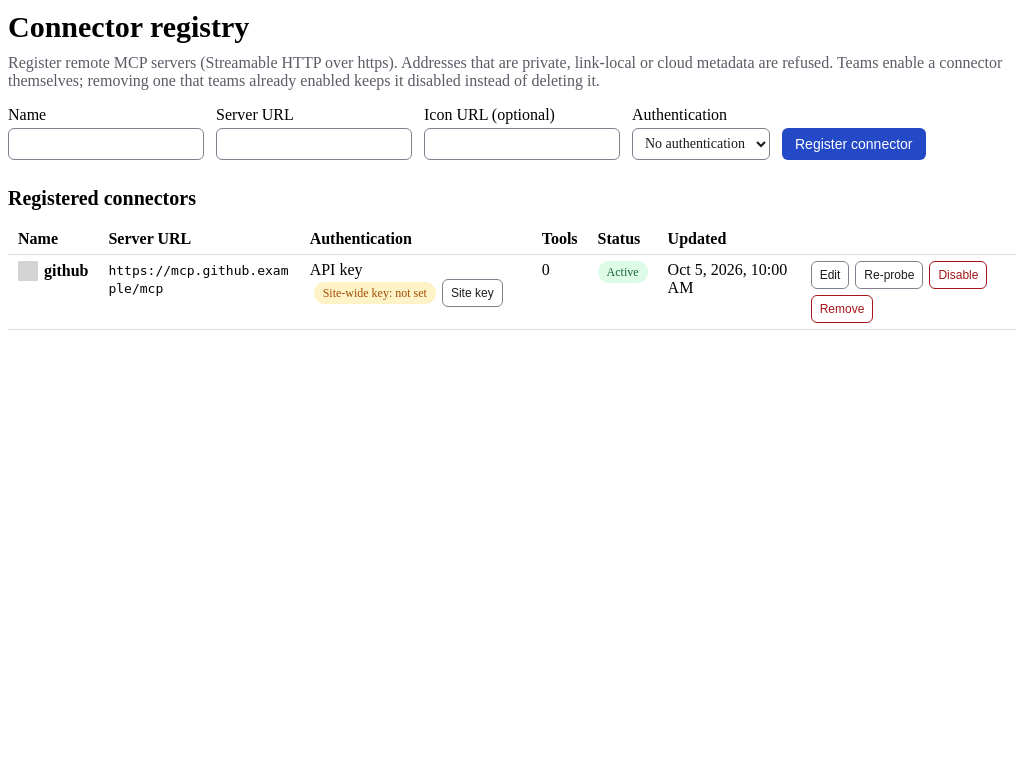
site-wide key (KOBE-303) › sets the key once, shows only its hint and warns about shared attribution
Expected: the text "Site-wide key: not set" is shown, [314,282,436,304]
Click the button "Site key" at (472, 292), box [442,278,503,306]
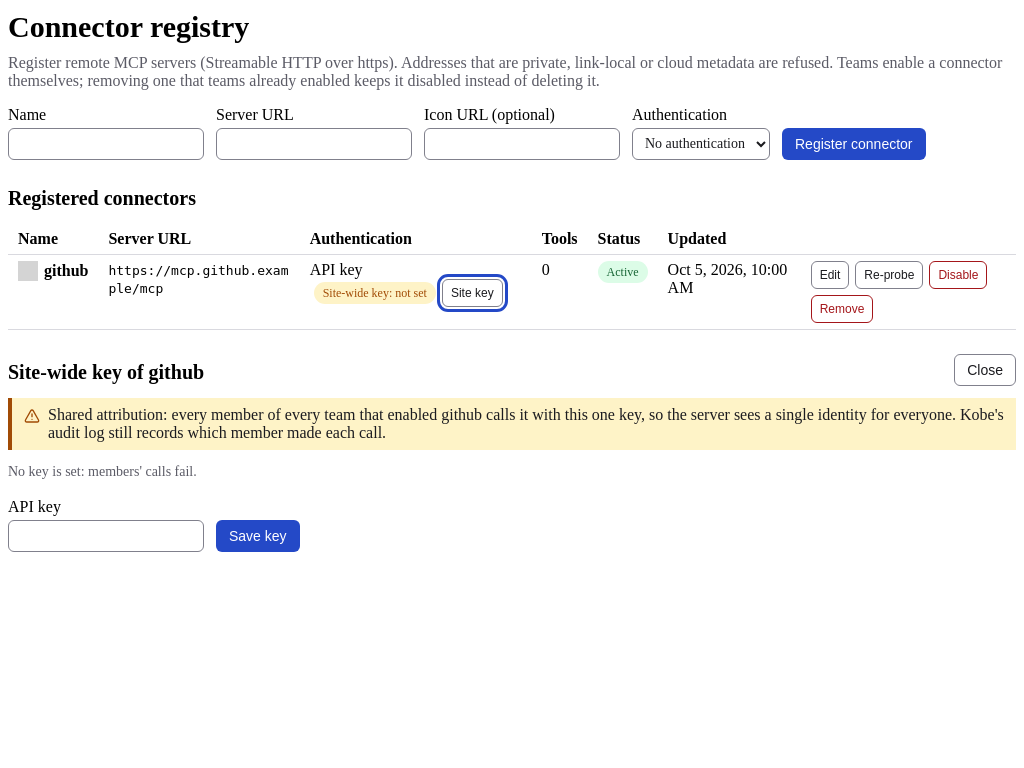
Expected: the text "Shared attribution" is shown, [48,406,441,422]
Type "secret-key-0123456789wxyz" into the password field labelled "API key" at (106, 536), box [8,520,204,552]
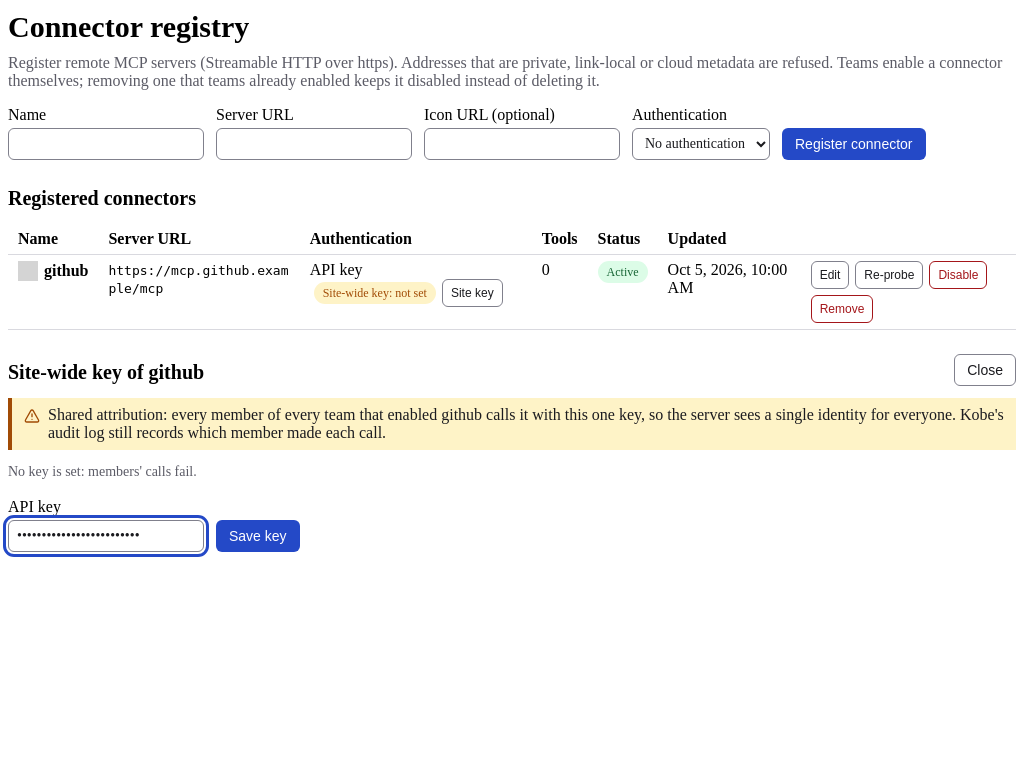
Click the button "Save key" at (258, 536), box [216,520,300,552]
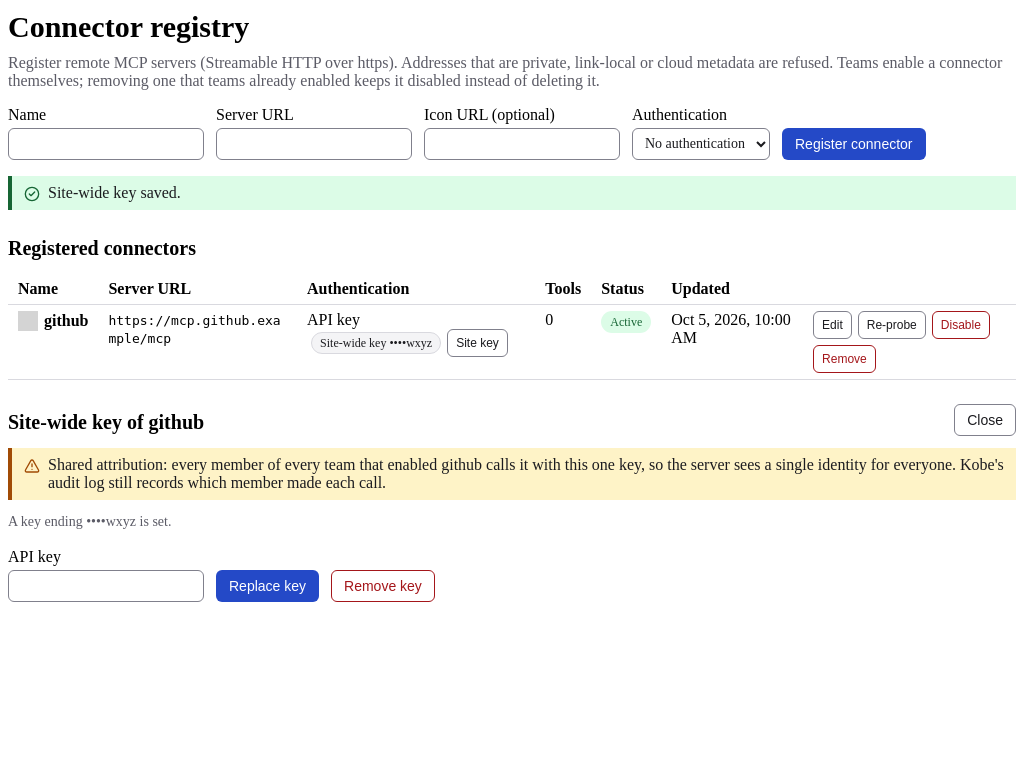
Expected: the password field labelled "API key" is empty, [8,570,204,602]
Expected: the text "Site-wide key ••••wxyz" is shown, [311,332,441,354]
